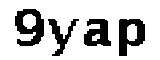9: (8, 4, 46, 47)
a: (83, 18, 112, 52)
p: (116, 18, 149, 60)
y: (45, 14, 81, 60)
